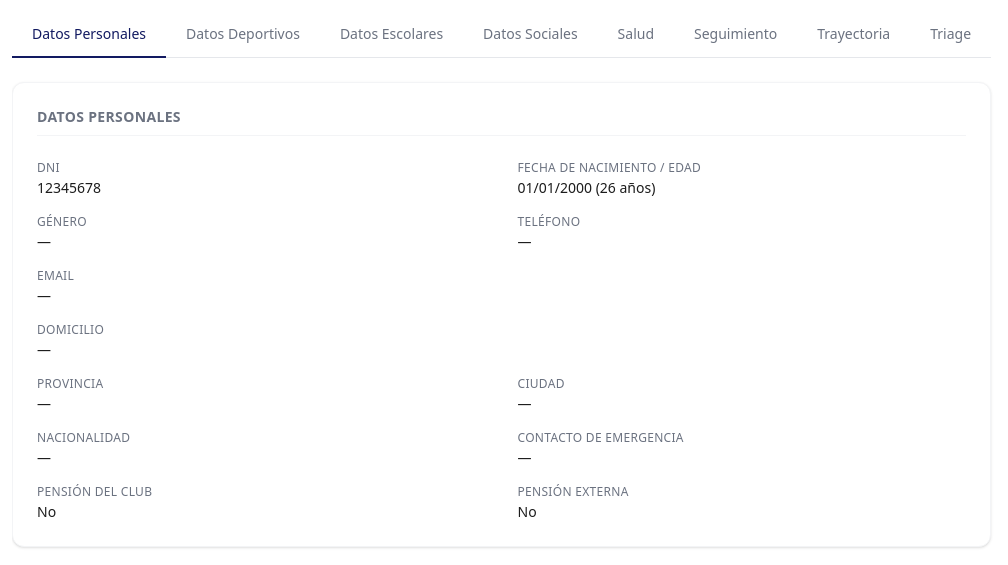
Test: DeportistaDetailTabs › la tab Datos Deportivos muestra el nombre de la categoría desde la relación
Click the tab "Datos Deportivos".
click(243, 35)  # box [166,12,320,58]
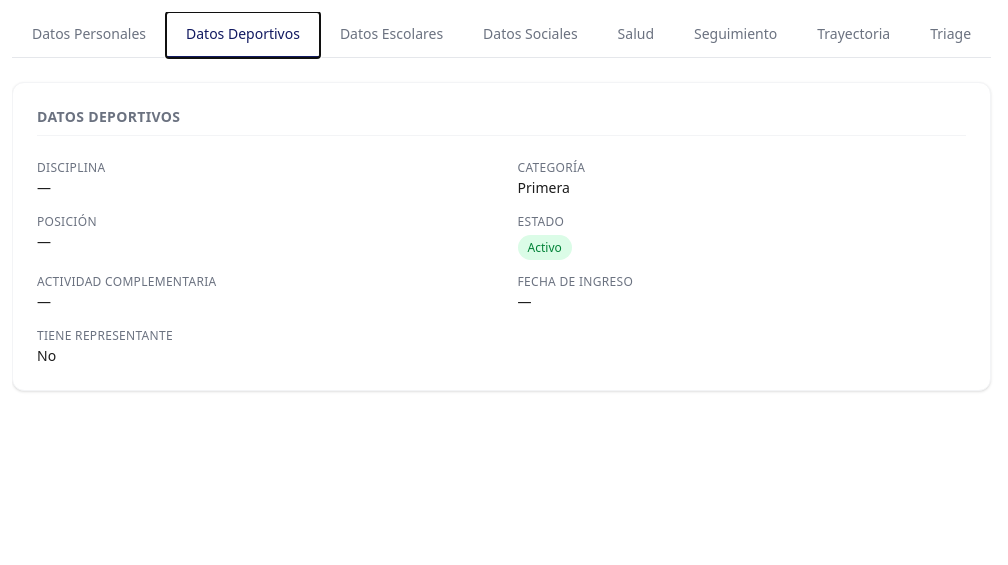
Result: the text "Primera" is shown at [518,178,570,197]
